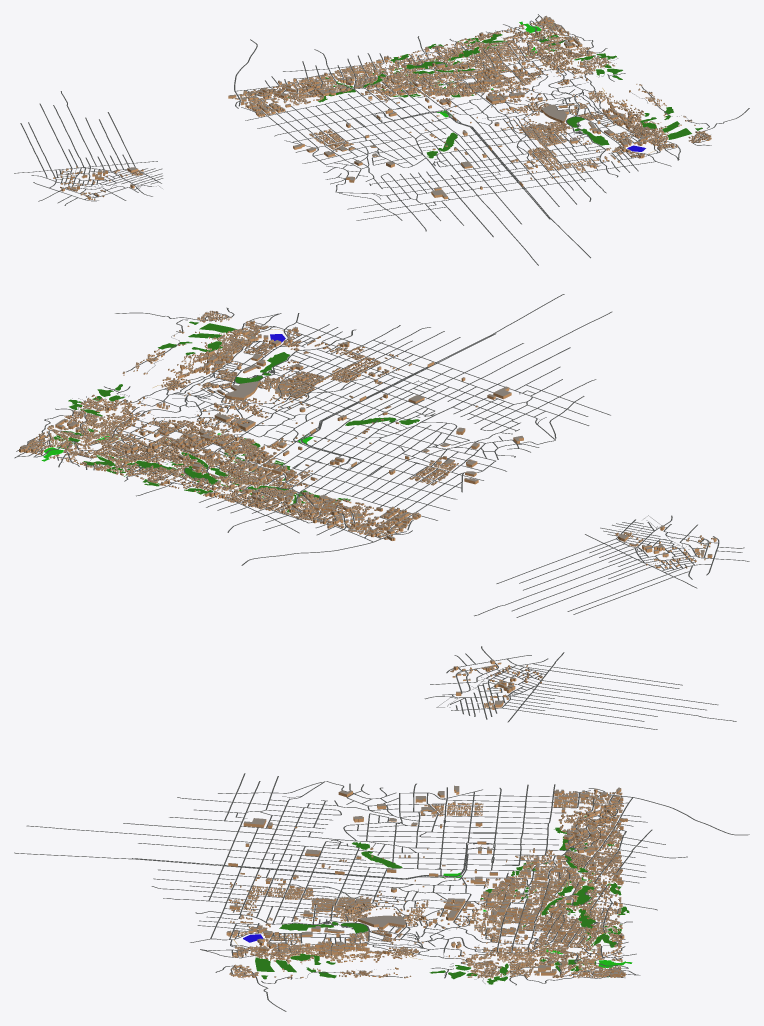
File: masfbx.fbx
3 views of the same model, one above another, from view 1: azimuth 30°, elevation 25°; view 2: azimuth 150°, elevation 25°; view 3: azimuth 270°, elevation 25° (orthographic). The views are drawn at different scales.
Visible parts, largest first — view 1: map_22.osm_buildings, map_22.osm_roads_residential, map_22.osm_forest, map_22.osm_roads_tertiary, map_23.osm_roads_residential, map_22.osm_roads_secondary, map_22.osm_roads_pedestrian; view 2: map_22.osm_buildings, map_22.osm_roads_residential, map_22.osm_forest, map_23.osm_roads_residential, map_22.osm_roads_tertiary, map_22.osm_roads_secondary, map_22.osm_roads_pedestrian; view 3: map_22.osm_buildings, map_22.osm_roads_residential, map_22.osm_forest, map_22.osm_roads_tertiary, map_23.osm_roads_residential, map_22.osm_roads_secondary, map_22.osm_roads_pedestrian.
Part boxes in pixels (box(x1,y1,x2,y2)): map_22.osm_buildings: box(228, 15, 711, 199); map_22.osm_roads_residential: box(235, 16, 749, 265); map_22.osm_forest: box(288, 25, 702, 158); map_22.osm_roads_tertiary: box(235, 14, 671, 224); map_23.osm_roads_residential: box(14, 91, 163, 205); map_22.osm_roads_secondary: box(234, 21, 618, 237); map_22.osm_roads_pedestrian: box(298, 36, 590, 258); map_22.osm_buildings: box(19, 310, 523, 540); map_22.osm_roads_residential: box(16, 307, 612, 538); map_22.osm_forest: box(50, 321, 419, 515); map_23.osm_roads_residential: box(474, 522, 749, 617); map_22.osm_roads_tertiary: box(14, 313, 584, 542); map_22.osm_roads_secondary: box(35, 329, 570, 565); map_22.osm_roads_pedestrian: box(97, 294, 564, 486); map_22.osm_buildings: box(226, 785, 627, 978); map_22.osm_roads_residential: box(26, 773, 665, 1011); map_22.osm_forest: box(255, 815, 629, 984); map_22.osm_roads_tertiary: box(138, 781, 687, 985); map_23.osm_roads_residential: box(430, 646, 736, 729); map_22.osm_roads_secondary: box(123, 790, 749, 967); map_22.osm_roads_pedestrian: box(14, 795, 618, 938).
Bounding box in the file's own units: 463794 × 2235 × 394580.
